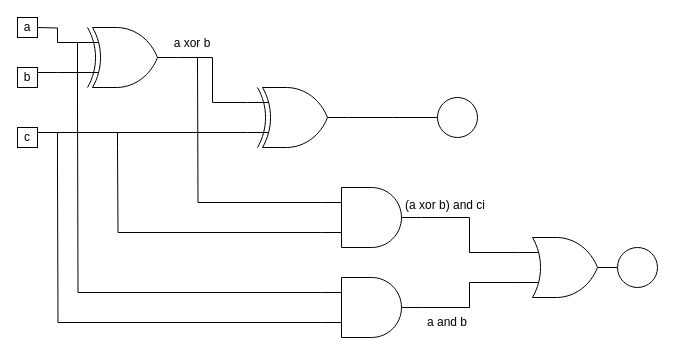
Image size: 675x355. Some labels were removed from this diagram. Here are the shapes that lost their labels. From the top down, the box of each, then its label:
(436, 96, 478, 138): sum
(616, 246, 658, 288): co
